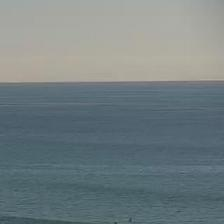surfer: (128, 218, 132, 221), (177, 210, 181, 212), (114, 223, 118, 223)
